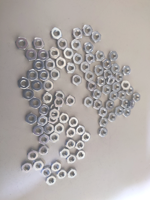nut: (16, 37, 29, 51), (24, 49, 37, 62), (36, 49, 49, 62), (26, 149, 39, 162), (32, 38, 45, 50), (50, 28, 63, 40), (49, 47, 61, 60), (39, 69, 51, 82), (18, 78, 31, 90), (33, 60, 45, 72), (21, 162, 33, 174), (56, 57, 67, 69), (72, 74, 83, 86), (26, 69, 38, 80), (23, 89, 35, 100), (26, 113, 37, 125), (54, 96, 65, 108), (38, 135, 50, 146), (51, 161, 62, 173), (67, 168, 78, 180), (58, 38, 68, 51), (51, 69, 61, 82), (65, 96, 76, 107), (72, 28, 83, 39), (49, 109, 60, 120), (73, 54, 84, 65), (34, 160, 45, 171), (39, 145, 50, 156), (81, 132, 92, 143), (93, 65, 104, 76), (121, 80, 132, 91), (64, 48, 74, 60), (46, 59, 56, 71), (32, 80, 42, 92), (83, 25, 93, 37), (38, 115, 48, 127), (59, 113, 69, 125), (69, 116, 79, 128), (33, 126, 45, 136), (42, 167, 52, 179), (47, 175, 57, 187), (57, 169, 67, 181), (84, 96, 94, 108), (67, 63, 77, 74), (42, 93, 52, 104), (30, 98, 40, 109), (72, 40, 82, 51), (59, 149, 70, 159), (76, 125, 86, 136), (92, 32, 102, 43), (108, 51, 119, 61), (80, 62, 90, 73), (87, 81, 97, 92), (93, 99, 103, 110), (105, 100, 115, 111), (102, 85, 112, 96), (111, 64, 121, 75), (67, 127, 76, 139), (86, 53, 95, 65), (85, 71, 94, 83), (44, 81, 54, 91), (50, 133, 60, 143), (66, 140, 76, 150), (55, 124, 65, 134), (84, 42, 94, 52), (102, 59, 112, 69), (98, 128, 108, 138), (98, 118, 108, 128), (40, 104, 49, 115), (67, 154, 76, 165), (96, 51, 105, 62), (133, 93, 142, 104), (104, 70, 113, 81), (55, 92, 64, 102), (50, 103, 59, 113), (49, 115, 58, 125), (108, 112, 117, 122), (110, 91, 119, 101), (113, 83, 122, 93), (93, 90, 102, 100), (126, 86, 136, 95), (116, 106, 124, 117), (123, 65, 131, 76), (77, 152, 86, 161), (121, 100, 130, 109), (97, 78, 106, 87), (100, 108, 108, 118), (124, 109, 132, 118), (119, 91, 127, 99), (78, 142, 85, 151), (45, 126, 54, 133), (115, 75, 124, 82), (107, 78, 115, 85)
